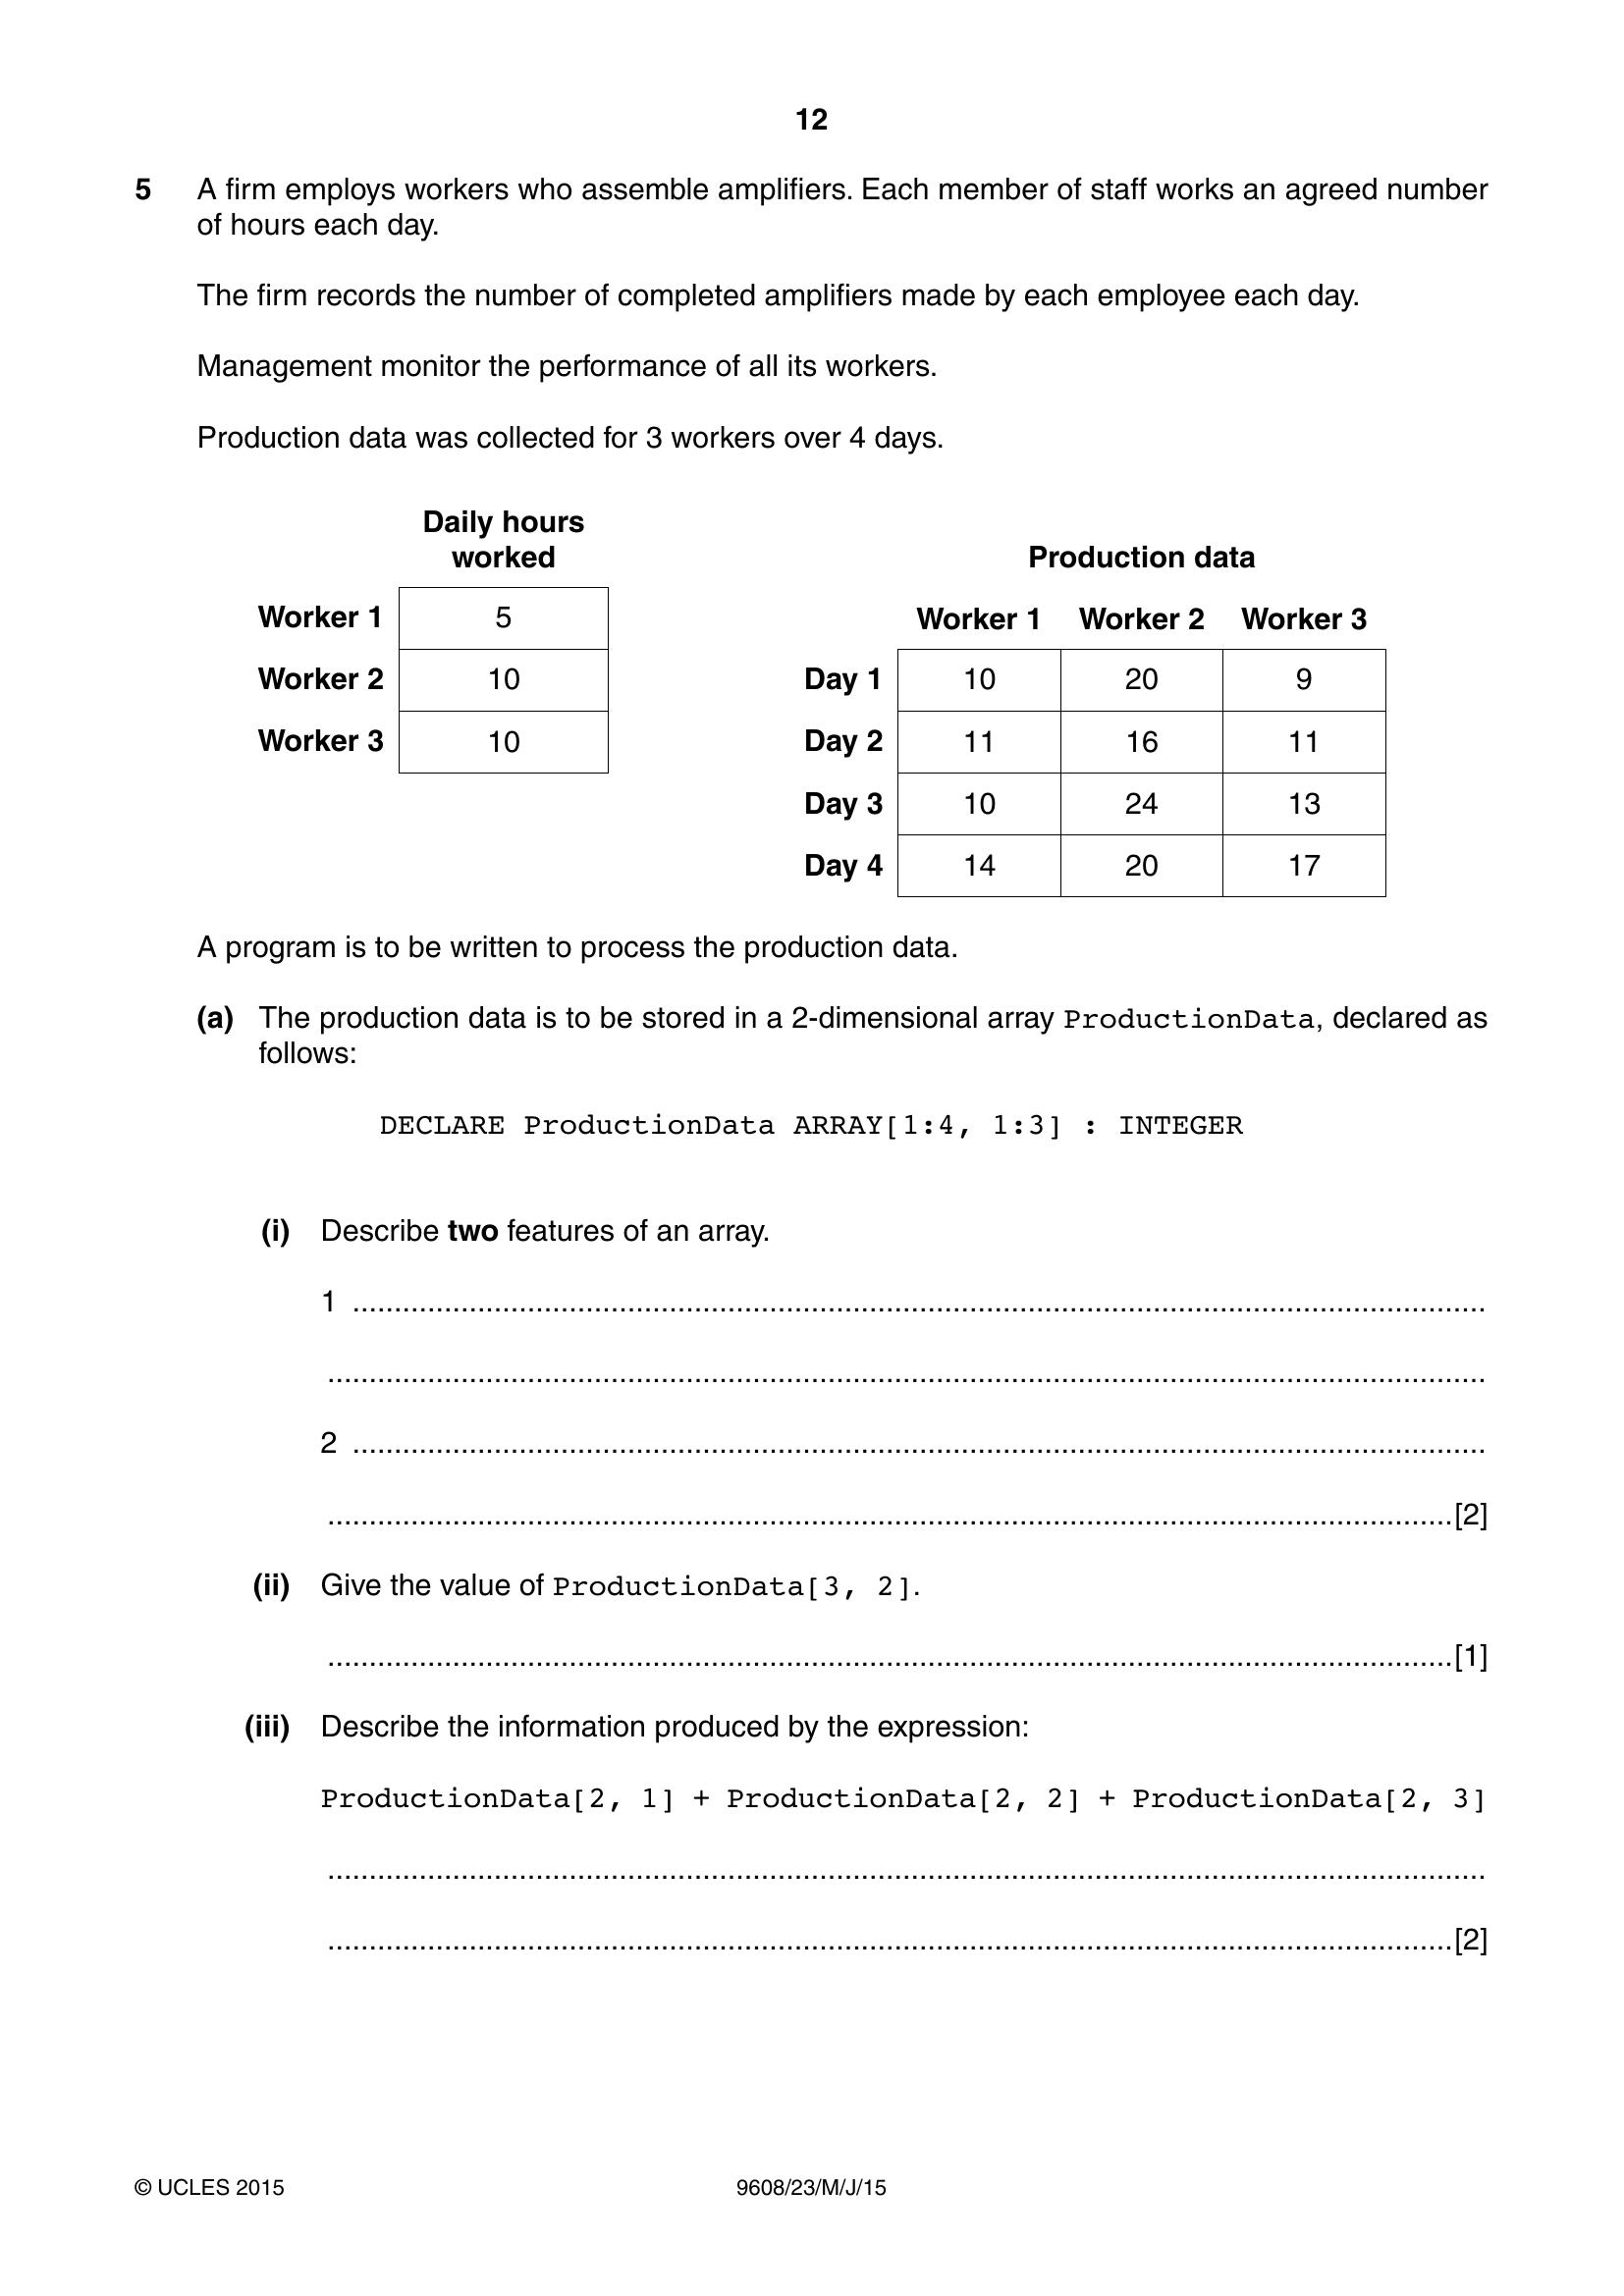question: (4, 151, 1624, 2047)
